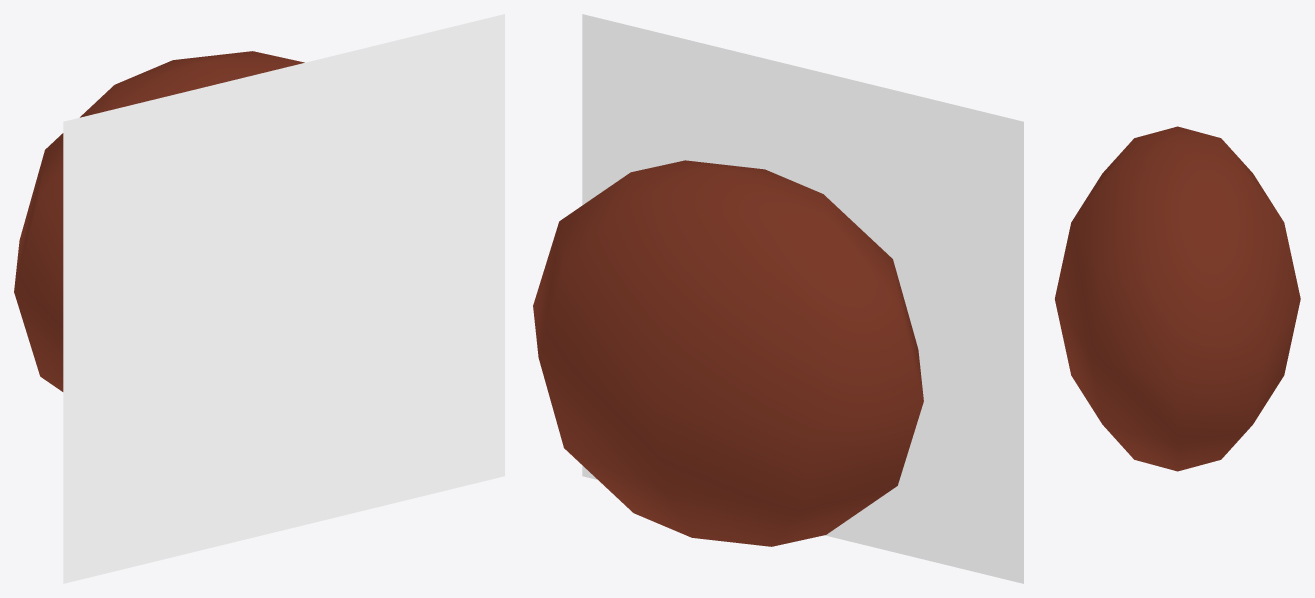
The model's file is mdl-ingredient-chicken-r1-b1.glb.
The picture shows the model from 3 angles, left to right: view 1: azimuth 30°, elevation 25°; view 2: azimuth 150°, elevation 25°; view 3: azimuth 270°, elevation 25°; orthographic projection. The views are drawn at different scales.
Visible parts, largest first — view 1: pixel-material-plane, chicken-body; view 2: chicken-body, pixel-material-plane; view 3: chicken-body.
Boxes of the visible parts, x1,y1,x2,y2 form: pixel-material-plane: [63, 14, 504, 583]; chicken-body: [14, 51, 304, 391]; chicken-body: [533, 160, 923, 546]; pixel-material-plane: [582, 14, 1023, 583]; chicken-body: [1055, 126, 1300, 471].
Size of the model in its own units: 0.205 by 0.205 by 0.1188.
